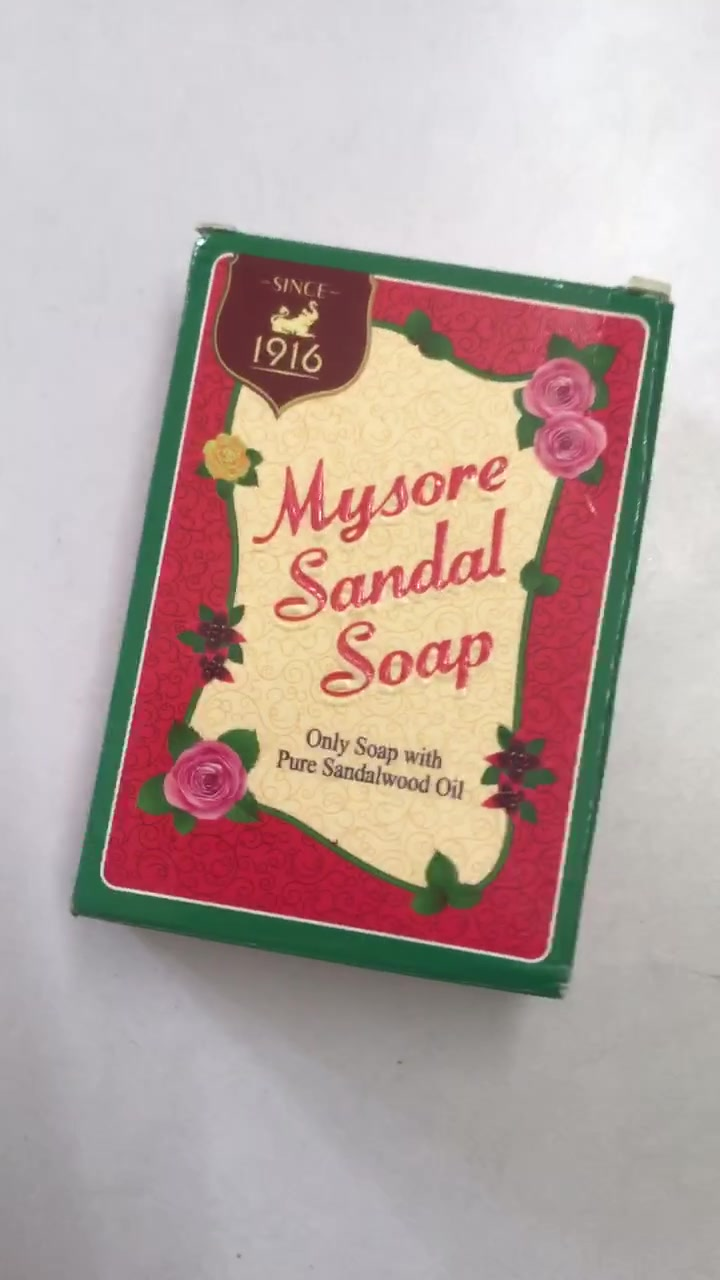mysore sandal soap: (67, 221, 676, 1003)
